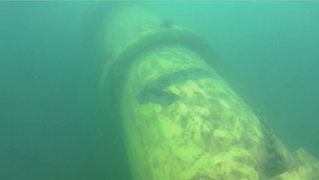1: (135, 68, 217, 107)
pipe: (90, 1, 319, 180)
